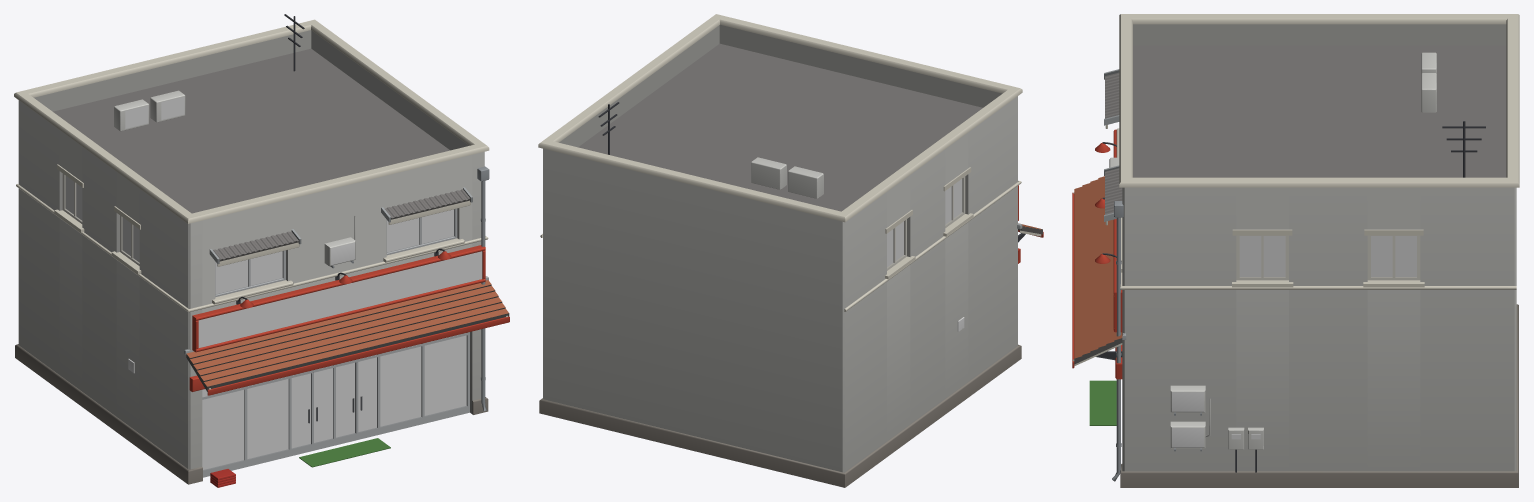
File: ShopMart.fbx
3 views of the same model, side by side, from view 1: azimuth 30°, elevation 25°; view 2: azimuth 150°, elevation 25°; view 3: azimuth 270°, elevation 25° (orthographic). The views are drawn at different scales.
Parts seen in each view (by area): view 1: ShopMart; view 2: ShopMart; view 3: ShopMart.
Boxes of the visible parts, x1,y1,x2,y2 form: ShopMart: (14,14,509,487); ShopMart: (538,14,1043,487); ShopMart: (1072,14,1519,487).
Bounding box in the file's own units: 9.43 × 8.6 × 10.21.
